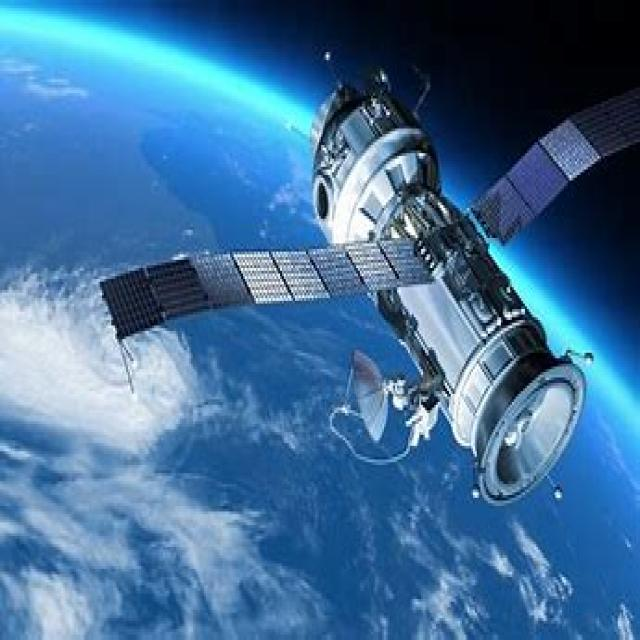satellite: (101, 57, 640, 514)
